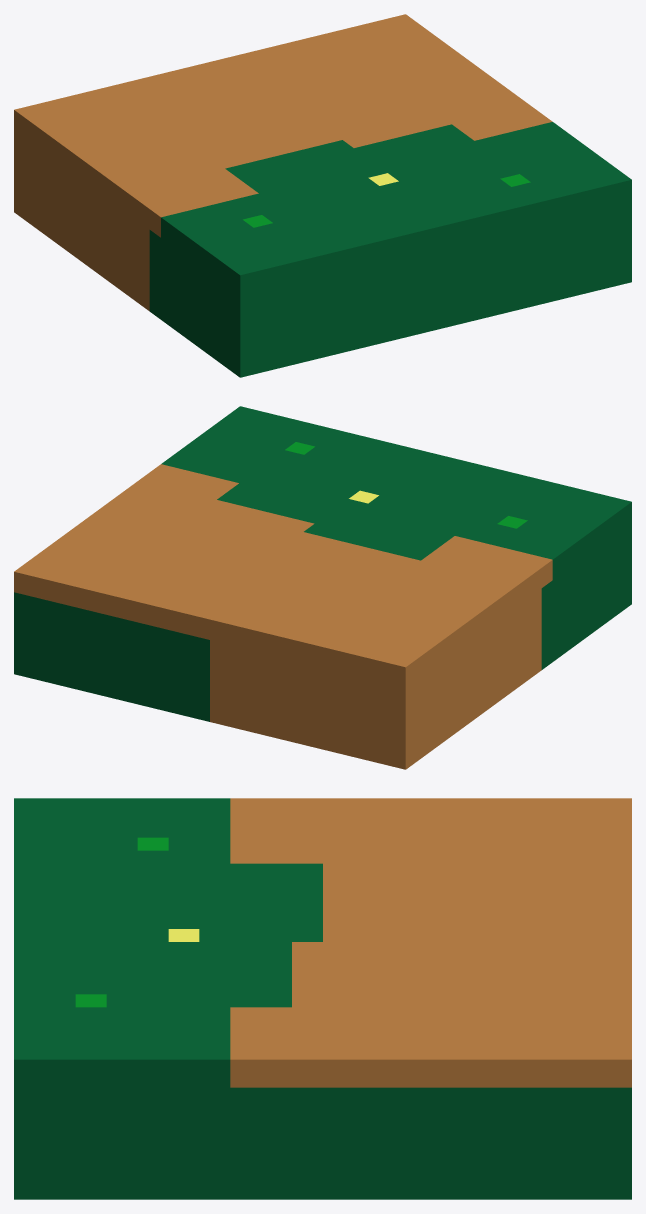
The model's file is Tile7.obj.
3 renders of one model, top to bottom at view 1: azimuth 30°, elevation 25°; view 2: azimuth 150°, elevation 25°; view 3: azimuth 270°, elevation 25°, orthographic. The views are drawn at different scales.
Size of the model in its own units: 2 by 0.5 by 2.
Materials: 1 (1 with a texture image).
